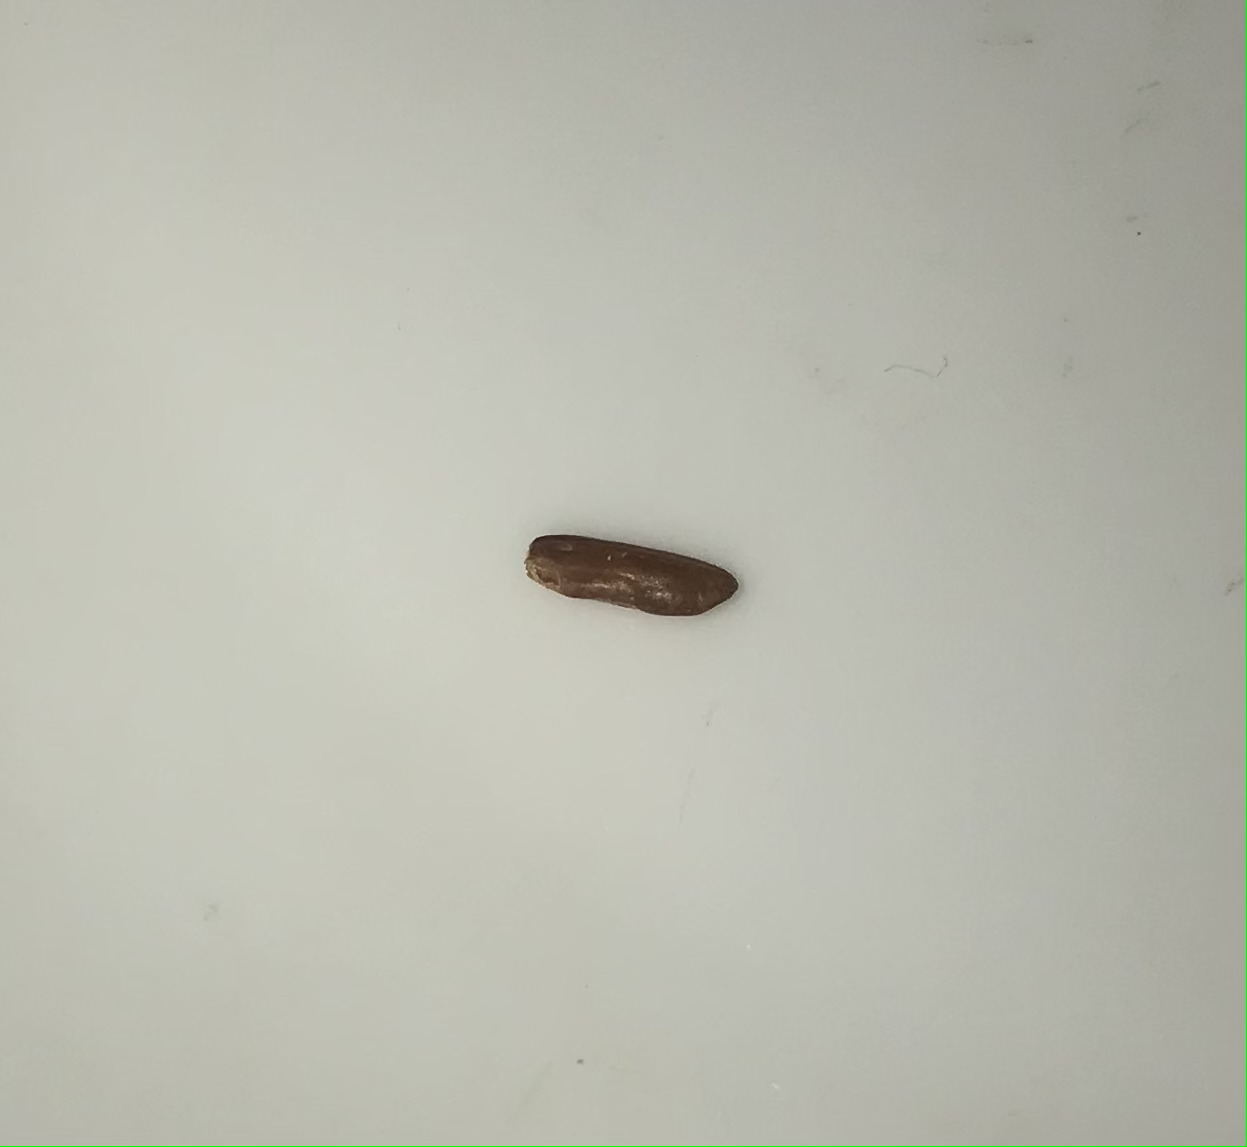Gao Huyet Rong: (524, 531, 742, 620)
